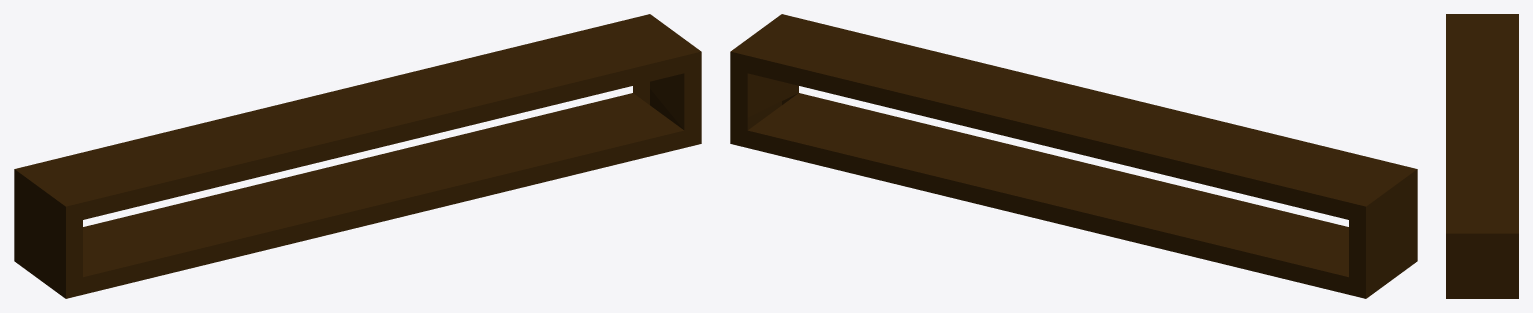
Rendered from slot.glb.
3 renders of one model, left to right at view 1: azimuth 30°, elevation 25°; view 2: azimuth 150°, elevation 25°; view 3: azimuth 270°, elevation 25°, orthographic. The views are drawn at different scales.
Parts seen in each view (by area): view 1: Cube.020; view 2: Cube.020; view 3: Cube.020.
Boxes of the visible parts, x1,y1,x2,y2 form: Cube.020: (14, 14, 701, 298); Cube.020: (730, 14, 1417, 298); Cube.020: (1446, 14, 1518, 298).
Size of the model in its own units: 2.19 by 0.3039 by 0.3066.
